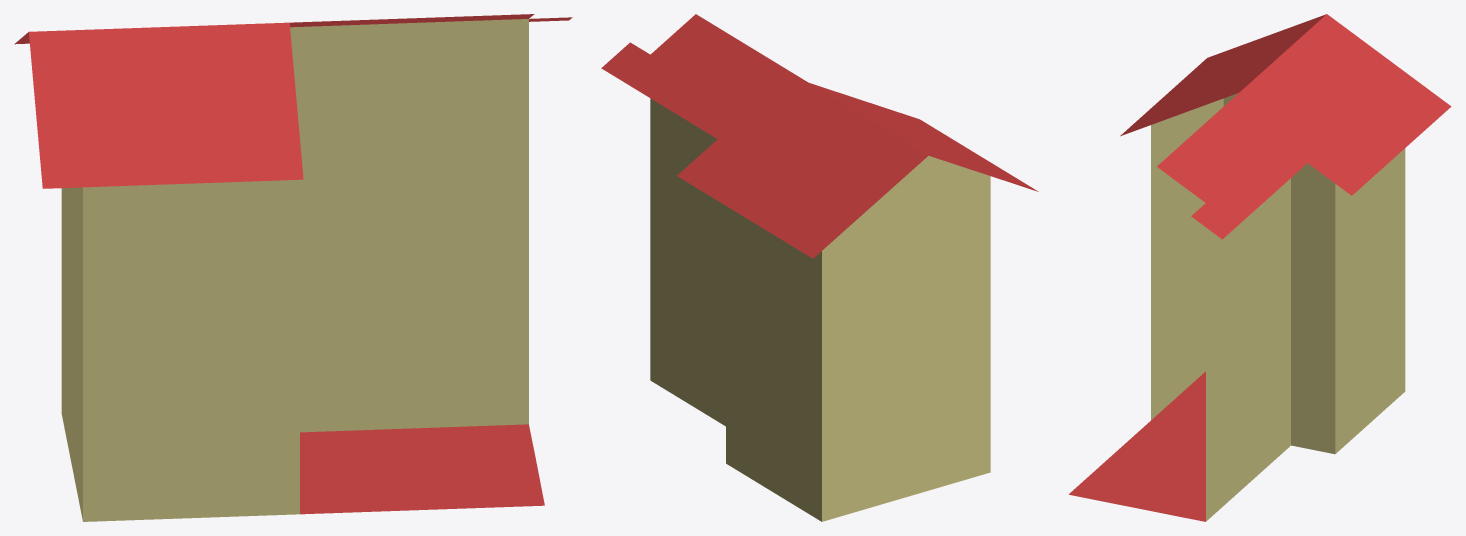
The picture shows the model from 3 angles, left to right: view 1: azimuth 30°, elevation 25°; view 2: azimuth 150°, elevation 25°; view 3: azimuth 270°, elevation 25°; orthographic projection. The views are drawn at different scales.
Size of the model in its own units: 14.05 by 11.06 by 11.
